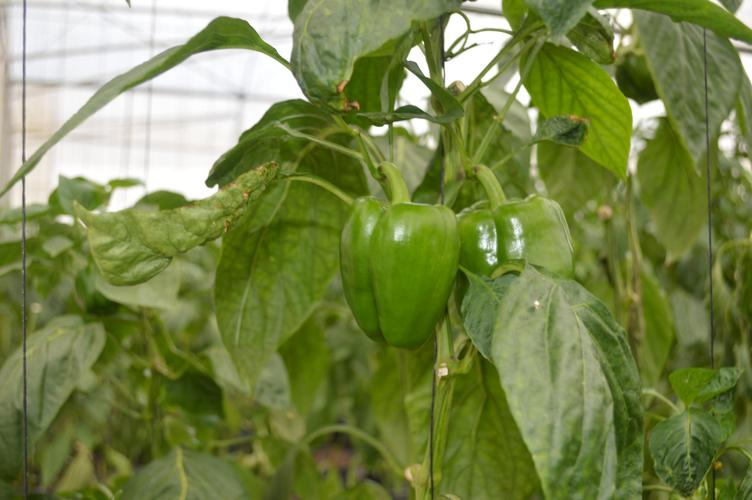BellPepper: (339, 198, 457, 354), (455, 191, 576, 280)
